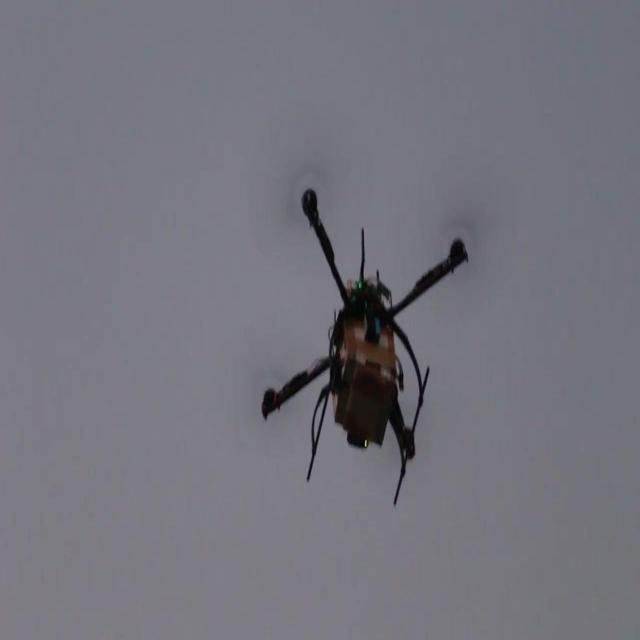UAV: (260, 188, 469, 508)
